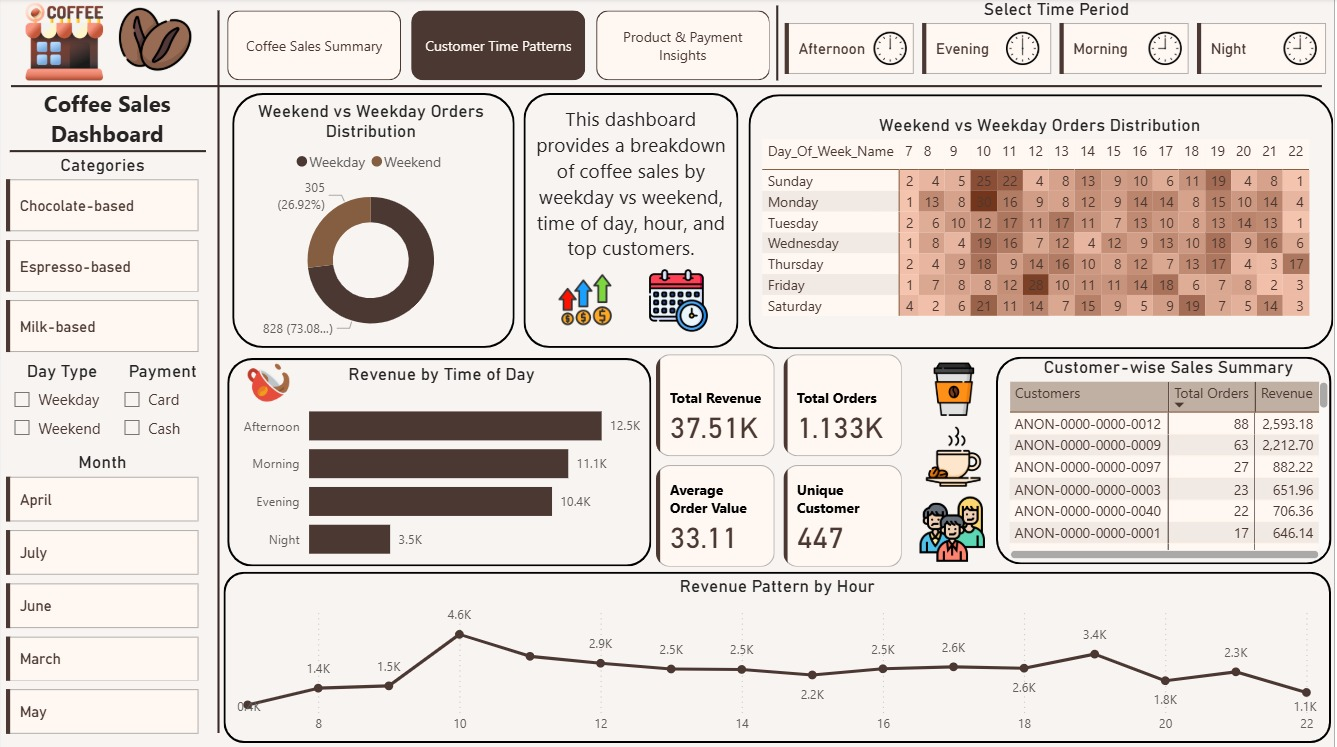

This screenshot's page, from the dashboard's own definition file:
{"tool":"powerbi","page":{"name":"Customer Time Patterns","canvas":[1280,720],"ordinal":1},"visuals":[{"type":"advancedSlicerVisual","title":"Categories","fields":{"Values":["Cleaned_Dataset.coffee_category"]},"box":[0,149.7,195.3,198.1],"z":0},{"type":"advancedSlicerVisual","title":"Month","fields":{"Values":["Cleaned_Dataset.Month Name"]},"box":[0,436.2,195.3,279.4],"z":1000},{"type":"advancedSlicerVisual","title":"Select Time Period","fields":{"Values":["Cleaned_Dataset.time_of_day"]},"box":[748.3,0,531.7,79],"z":2000},{"type":"shape","box":[195.7,12,26.4,694],"z":3000},{"type":"shape","box":[9.6,70.8,1259.6,27.6],"z":4000},{"type":"cardVisual","fields":{"Data":["Sum(Cleaned_Dataset.money)","CountNonNull(Cleaned_Dataset.coffee_name)","Cleaned_Dataset.Average Order Value","Count(Cleaned_Dataset.card)"]},"box":[624.3,337.8,246.6,215.2],"z":5000},{"type":"image","box":[106.9,0,82.9,79.2],"z":6000},{"type":"shape","box":[8.4,133.3,188.5,27.6],"z":7000},{"type":"textbox","box":[7.2,81.7,189.7,76.8],"z":8000},{"type":"slicer","title":"Day Type","fields":{"Values":["Cleaned_Dataset.is_weekend"]},"box":[0,348.2,117.7,87.7],"z":9000},{"type":"slicer","title":"Payment","fields":{"Values":["Cleaned_Dataset.payment_category"]},"box":[105.7,348.2,99.7,87.7],"z":10000},{"type":"pageNavigator","box":[217.3,12,521.1,67.2],"z":11000},{"type":"shape","title":"Daily Sales by Coffee Category","box":[718,92.5,562,245],"z":12000},{"type":"shape","box":[213.7,551.1,1063.9,164.5],"z":13000},{"type":"shape","box":[216.8,345.8,407.5,200.3],"z":14000},{"type":"shape","box":[956,344.6,322.2,199.5],"z":15000},{"type":"donutChart","title":"Weekend vs Weekday Orders Distribution","fields":{"Category":["Cleaned_Dataset.is_weekend"],"Y":["CountNonNull(Cleaned_Dataset.is_weekend)"]},"box":[217.3,98.5,276.2,238.9],"z":16000},{"type":"clusteredBarChart","title":"Revenue by Time of Day","fields":{"Category":["Cleaned_Dataset.time_of_day"],"Y":["Sum(Cleaned_Dataset.money)"]},"box":[222.1,350.6,402.3,204.1],"z":17000},{"type":"pivotTable","title":"Weekend vs Weekday Orders Distribution","fields":{"Columns":["Cleaned_Dataset.hour"],"Values":["CountNonNull(Cleaned_Dataset.coffee_name)"],"Rows":["Cleaned_Dataset.Day_Of_Week_Name"]},"box":[726.5,111.7,542.7,202.9],"z":18000},{"type":"lineChart","title":"Revenue Pattern by Hour","fields":{"Category":["Cleaned_Dataset.hour"],"Y":["Sum(Cleaned_Dataset.money)"]},"box":[222.1,554.7,1047.1,160.9],"z":19000},{"type":"tableEx","title":"Customer-wise Sales Summary","fields":{"Values":["Cleaned_Dataset.card","Cleaned_Dataset.coffee_name","Sum(Cleaned_Dataset.money)"]},"box":[963.5,344.6,316.9,199.5],"z":20000},{"type":"shape","title":"Daily Sales by Coffee Category","box":[222.1,91.3,271.4,245],"z":21000},{"type":"shape","title":"Daily Sales by Coffee Category","box":[501.9,91.3,206.5,245],"z":22000},{"type":"textbox","box":[501.9,98.5,206.5,170.5],"z":23000},{"type":"image","box":[528.3,259.4,66,61.2],"z":24000},{"type":"image","box":[616,248.6,69.6,84.1],"z":25000},{"type":"shape","box":[732.5,7.2,26.4,72],"z":26000},{"type":"image","box":[230.5,344.6,53.3,50.1],"z":28000},{"type":"image","box":[18,0,85.3,84.1],"z":29000},{"type":"image","box":[884.5,344.6,60.8,61.9],"z":30000},{"type":"image","box":[879.2,406.5,71.5,67.2],"z":31000},{"type":"image","box":[876,468.4,74.7,83.2],"z":32000},{"type":"image","box":[960.6,22.8,42,50.4],"z":32001},{"type":"image","box":[1097.5,22.8,42,50.4],"z":32002},{"type":"image","box":[1227.2,22.8,42,50.4],"z":32003},{"type":"image","box":[833.3,22.8,42,50.4],"z":32004}]}

Visuals, with their boxes in screenshot pixels (x1, y1, x2, y2), scaled from the page's 1280x720 canvas onto the 1337x747 screenshot:
"Categories" advancedSlicerVisual: <region>0, 155, 204, 361</region>
"Month" advancedSlicerVisual: <region>0, 453, 204, 742</region>
"Select Time Period" advancedSlicerVisual: <region>782, 0, 1336, 82</region>
shape: <region>204, 12, 232, 732</region>
shape: <region>10, 73, 1326, 102</region>
cardVisual - Sum(Cleaned_Dataset.money) x CountNonNull(Cleaned_Dataset.coffee_name): <region>652, 350, 910, 574</region>
image: <region>112, 0, 198, 82</region>
shape: <region>9, 138, 206, 167</region>
textbox: <region>8, 85, 206, 164</region>
"Day Type" slicer: <region>0, 361, 123, 452</region>
"Payment" slicer: <region>110, 361, 215, 452</region>
pageNavigator: <region>227, 12, 771, 82</region>
"Daily Sales by Coffee Category" shape: <region>750, 96, 1336, 350</region>
shape: <region>223, 572, 1334, 742</region>
shape: <region>226, 359, 652, 567</region>
shape: <region>999, 358, 1335, 565</region>
"Weekend vs Weekday Orders Distribution" donutChart: <region>227, 102, 515, 350</region>
"Revenue by Time of Day" clusteredBarChart: <region>232, 364, 652, 576</region>
"Weekend vs Weekday Orders Distribution" pivotTable: <region>759, 116, 1326, 326</region>
"Revenue Pattern by Hour" lineChart: <region>232, 576, 1326, 742</region>
"Customer-wise Sales Summary" tableEx: <region>1006, 358, 1336, 565</region>
"Daily Sales by Coffee Category" shape: <region>232, 95, 515, 349</region>
"Daily Sales by Coffee Category" shape: <region>524, 95, 740, 349</region>
textbox: <region>524, 102, 740, 279</region>
image: <region>552, 269, 621, 333</region>
image: <region>643, 258, 716, 345</region>
shape: <region>765, 7, 793, 82</region>
image: <region>241, 358, 296, 410</region>
image: <region>19, 0, 108, 87</region>
image: <region>924, 358, 987, 422</region>
image: <region>918, 422, 993, 491</region>
image: <region>915, 486, 993, 572</region>
image: <region>1003, 24, 1047, 76</region>
image: <region>1146, 24, 1190, 76</region>
image: <region>1282, 24, 1326, 76</region>
image: <region>870, 24, 914, 76</region>
